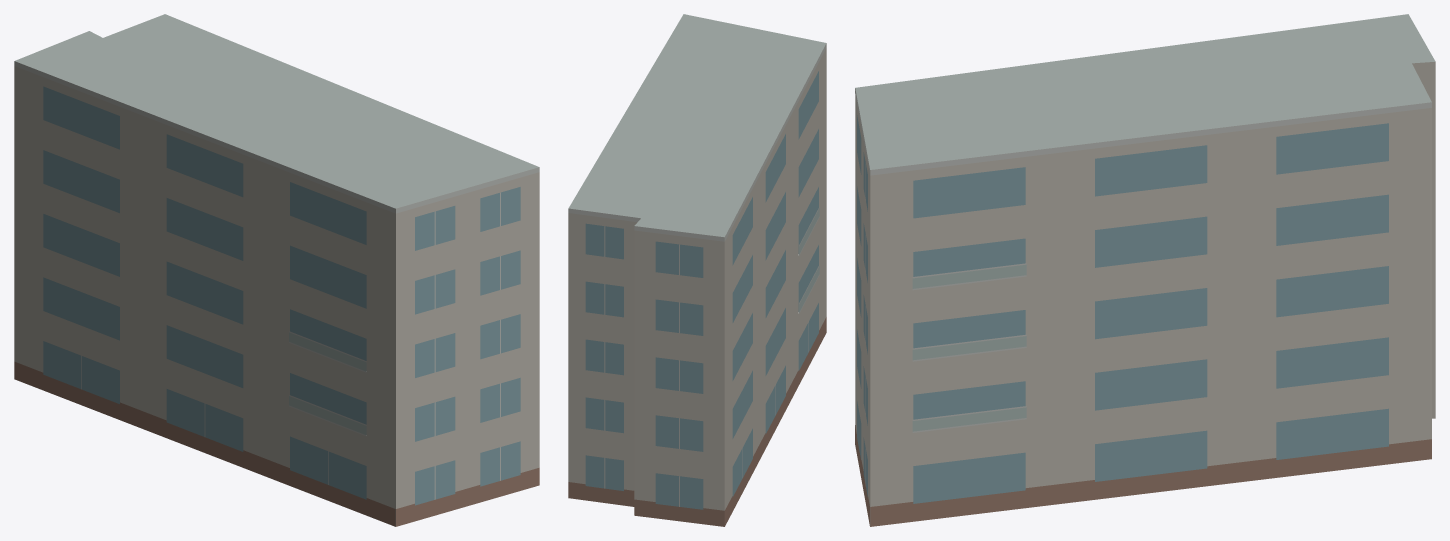
Rendered from survey-upis-32768675.glb.
3 renders of one model, left to right at view 1: azimuth 30°, elevation 25°; view 2: azimuth 150°, elevation 25°; view 3: azimuth 270°, elevation 25°, orthographic. The views are drawn at different scales.
Visible parts, largest first — view 1: survey-upis-32768675.tmp; view 2: survey-upis-32768675.tmp; view 3: survey-upis-32768675.tmp.
Boxes of the visible parts, box(x1,y1,x2,y2) form: survey-upis-32768675.tmp: box(14, 14, 539, 526); survey-upis-32768675.tmp: box(568, 14, 826, 526); survey-upis-32768675.tmp: box(855, 14, 1435, 526).
Size of the model in its own units: 14.69 by 15.65 by 23.08.
